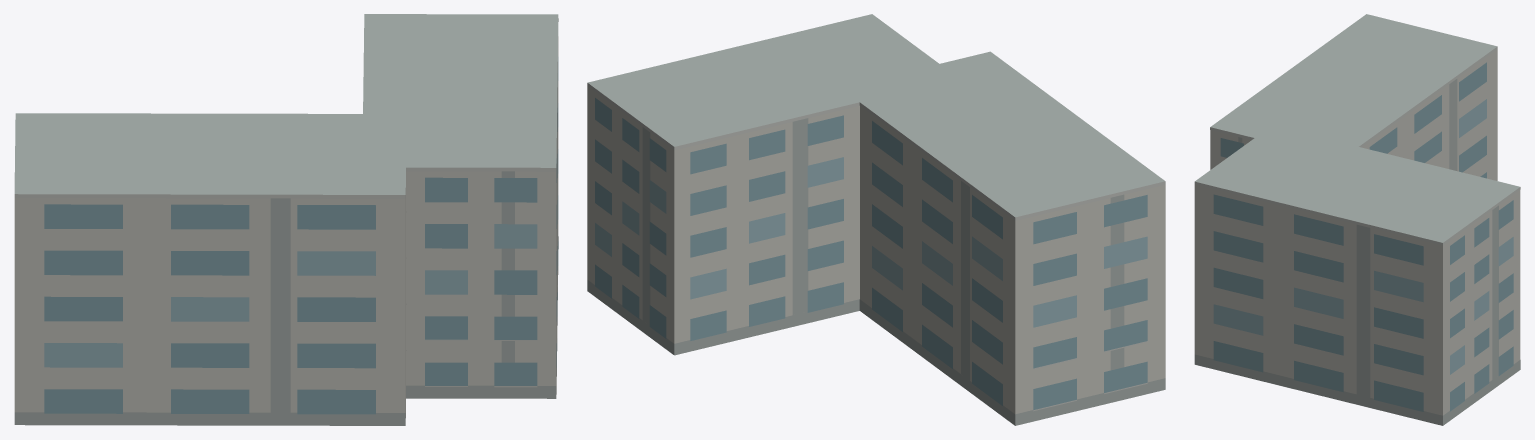
File: residential-3c4cb8d8-08dc-4e84-9ebb-36e933b843d2.glb
The picture shows the model from 3 angles, left to right: view 1: azimuth 30°, elevation 25°; view 2: azimuth 150°, elevation 25°; view 3: azimuth 270°, elevation 25°; orthographic projection. The views are drawn at different scales.
Visible parts, largest first — view 1: residential-3c4cb8d8-08dc-4e84-9ebb-36e933b843d2.tmp; view 2: residential-3c4cb8d8-08dc-4e84-9ebb-36e933b843d2.tmp; view 3: residential-3c4cb8d8-08dc-4e84-9ebb-36e933b843d2.tmp.
Boxes of the visible parts, x1=… form: residential-3c4cb8d8-08dc-4e84-9ebb-36e933b843d2.tmp: x1=14, y1=14, x2=558, y2=425; residential-3c4cb8d8-08dc-4e84-9ebb-36e933b843d2.tmp: x1=587, y1=14, x2=1165, y2=425; residential-3c4cb8d8-08dc-4e84-9ebb-36e933b843d2.tmp: x1=1194, y1=14, x2=1520, y2=425.
Size of the model in its own units: 40.93 by 15.25 by 24.62.
